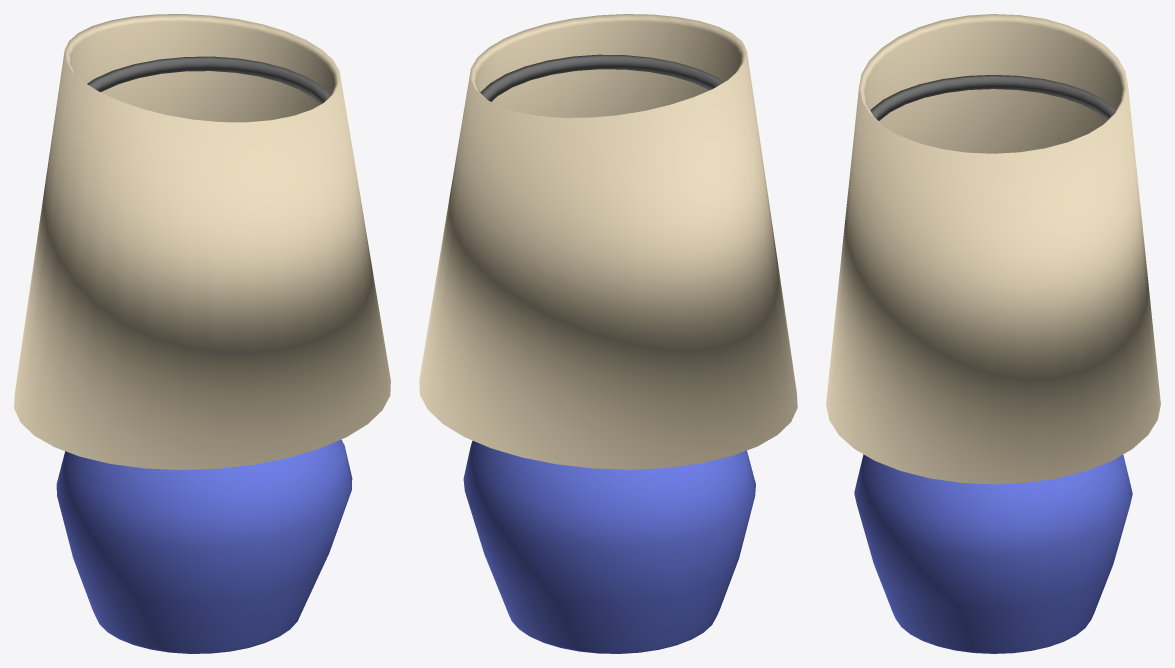
Rendered from LampBed.glb.
3 renders of one model, left to right at view 1: azimuth 30°, elevation 25°; view 2: azimuth 150°, elevation 25°; view 3: azimuth 270°, elevation 25°, orthographic. The views are drawn at different scales.
Parts seen in each view (by area): view 1: Lamp_Shade, Lamp_Base; view 2: Lamp_Shade, Lamp_Base; view 3: Lamp_Shade, Lamp_Base.
Part boxes in pixels (<box>): Lamp_Shade: <box>14,14,390,469</box>; Lamp_Base: <box>56,56,352,653</box>; Lamp_Shade: <box>419,14,797,469</box>; Lamp_Base: <box>463,54,755,653</box>; Lamp_Shade: <box>826,14,1160,484</box>; Lamp_Base: <box>854,75,1132,653</box>.
Size of the model in its own units: 0.2454 by 0.3878 by 0.2171.
